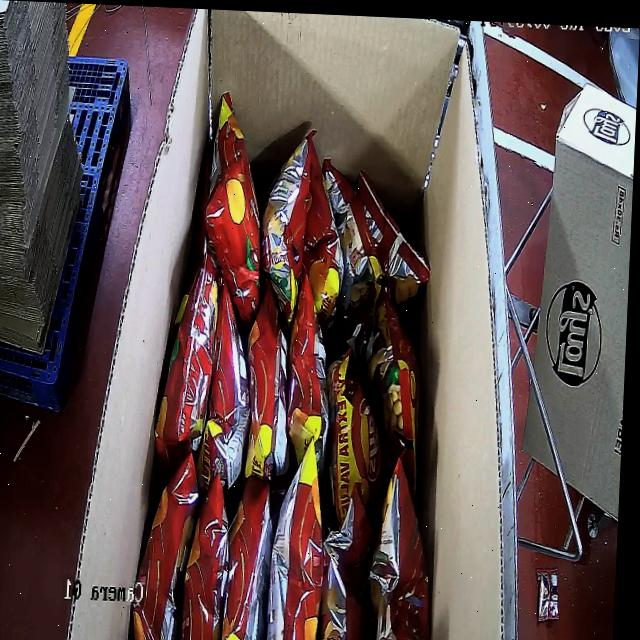MASALA: (131, 89, 453, 640)
